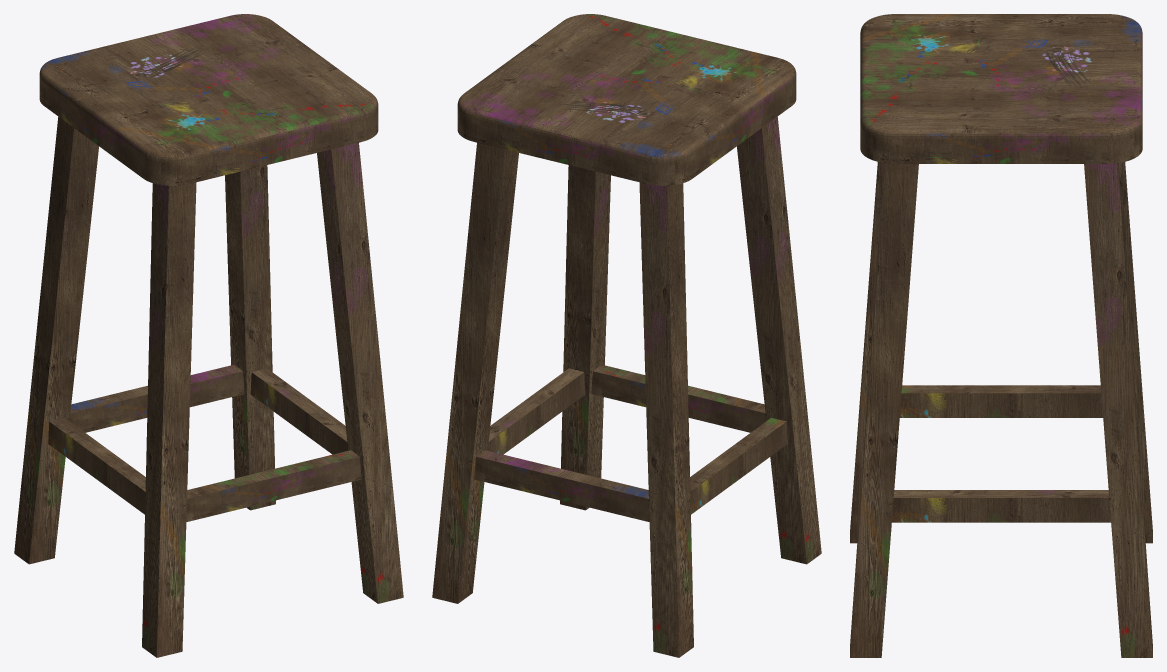
Rendered from Stool.FBX.
3 renders of one model, left to right at view 1: azimuth 30°, elevation 25°; view 2: azimuth 150°, elevation 25°; view 3: azimuth 270°, elevation 25°, orthographic. The views are drawn at different scales.
Visible parts, largest first — view 1: Stool; view 2: Stool; view 3: Stool.
Boxes of the visible parts, <box> form: Stool: <box>14,14,403,657</box>; Stool: <box>432,14,821,657</box>; Stool: <box>850,14,1152,657</box>.
Size of the model in its own units: 34.09 by 64.88 by 34.09.
Materials: 1 (1 with a texture image).
